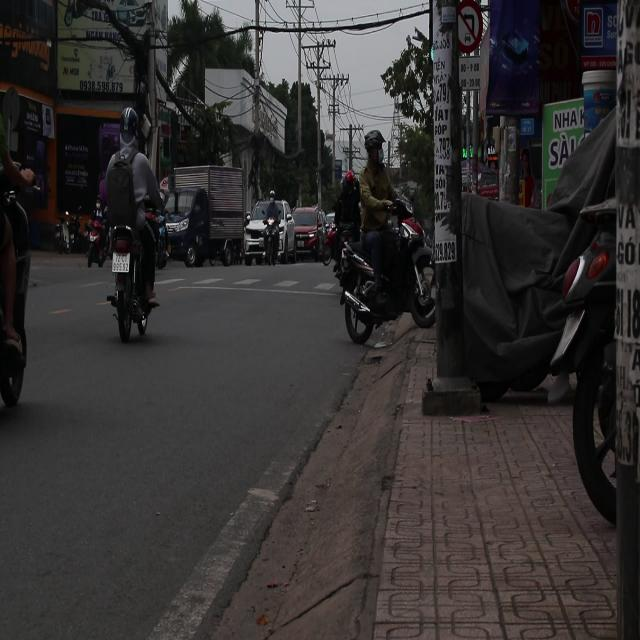car: (245, 188, 293, 278), (290, 208, 331, 262)
motorbike: (331, 214, 441, 334), (106, 212, 154, 342), (318, 208, 337, 266), (55, 211, 79, 255), (263, 215, 279, 275)
truck: (164, 165, 246, 268)
